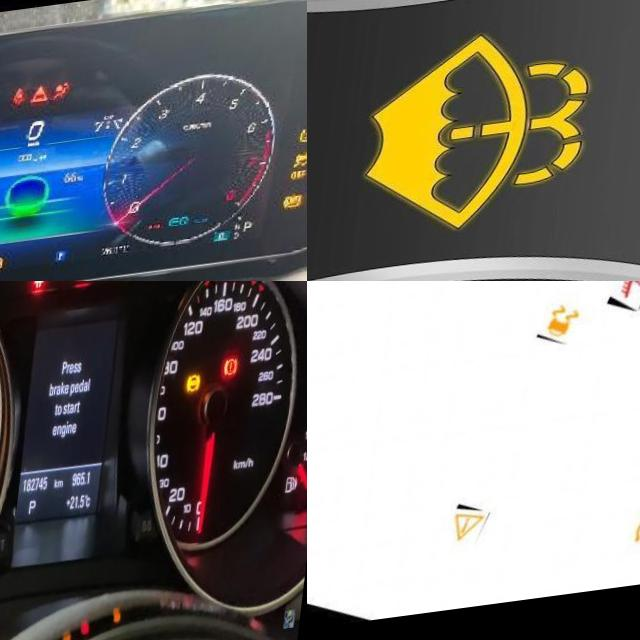Seat Belt: (17, 96, 32, 114)
Washer Fluid: (365, 29, 603, 253)
